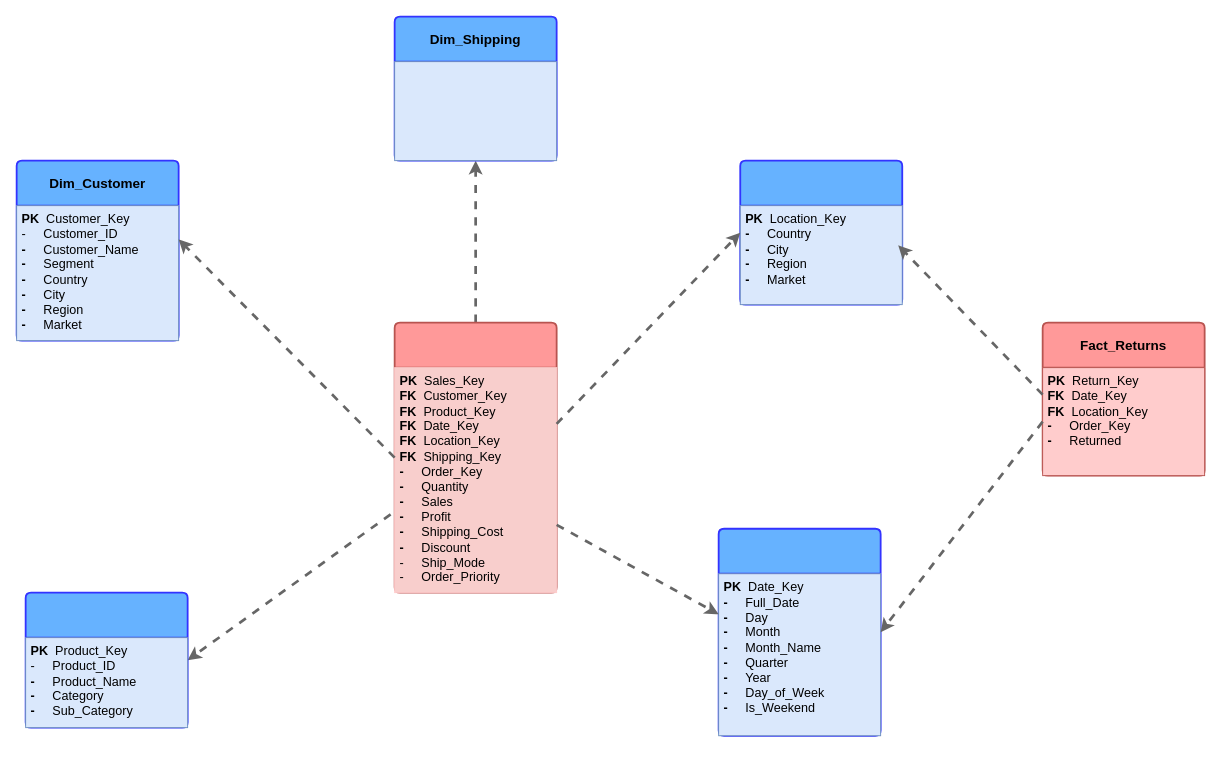
The diagram is 1220 pixels wide and 761 high, and some of its shapes have lost their labels. The shapes that lost their labels are listed below. From the top down, each one's box as (x1, y1, x2, y2) in pixels, then its label:
(394, 61, 557, 161): PK Shipping_Key - Ship_Mode - Order_Priority
(739, 159, 903, 305): Dim_Location
(393, 321, 557, 593): Fact_Sales
(717, 527, 881, 736): Dim_Date
(24, 591, 188, 728): Dim_Product
